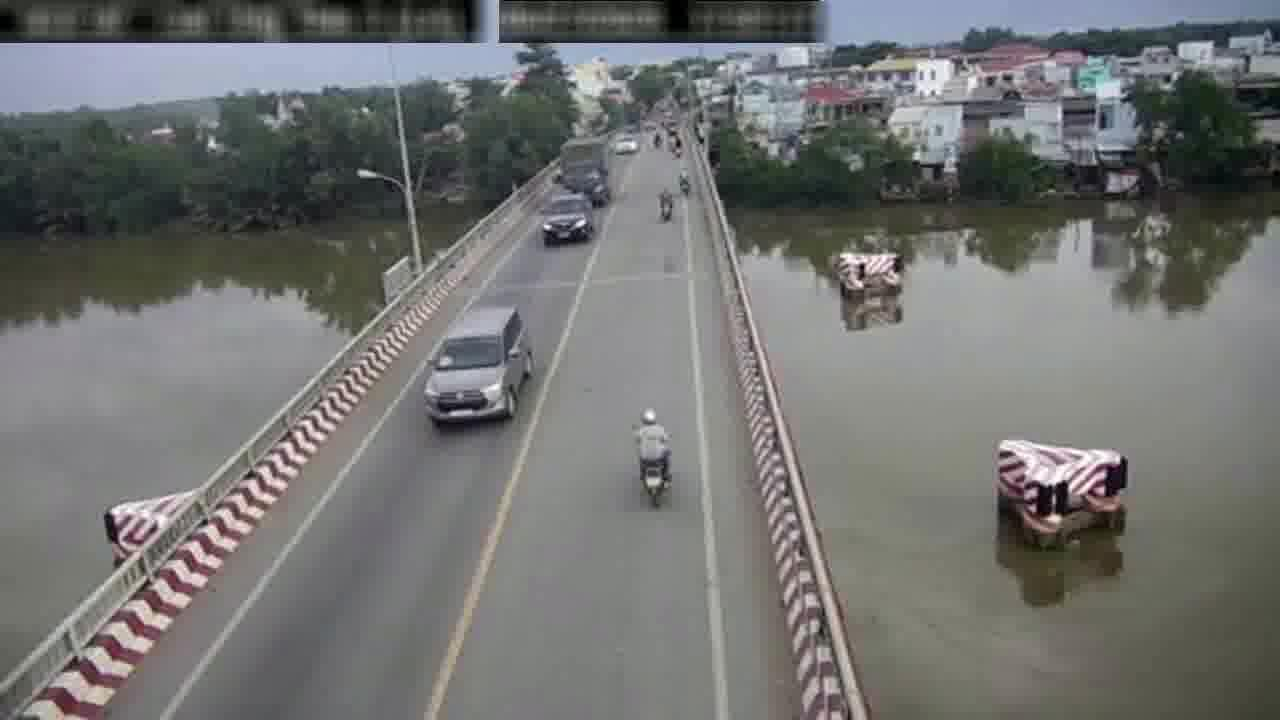8: (555, 130, 613, 209)
container: (417, 301, 536, 432), (540, 191, 594, 245), (613, 132, 638, 155)
motorbike: (631, 401, 674, 508), (656, 185, 673, 222), (678, 163, 692, 193)
